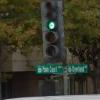Traffic light: (38, 0, 77, 68)
